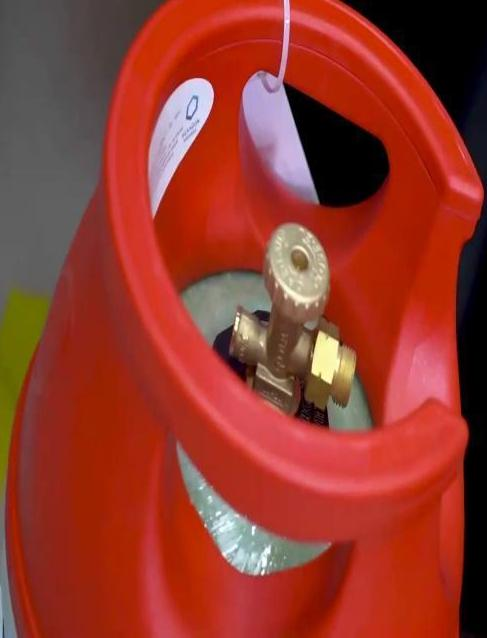cylinder: (1, 1, 487, 638)
